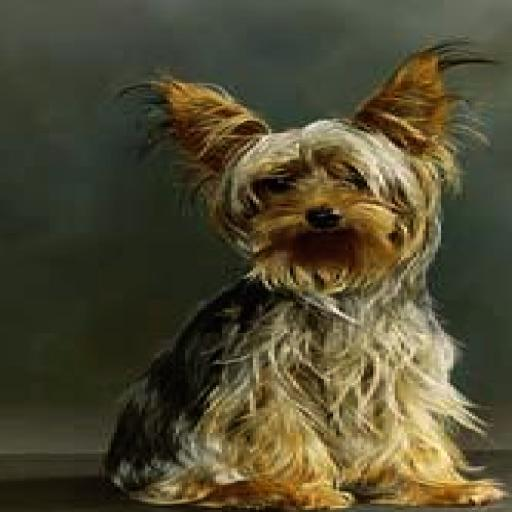dog_face: (139, 58, 456, 277)
